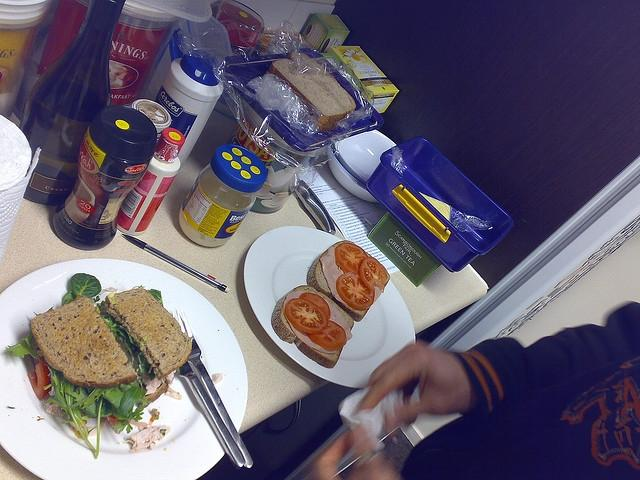tomato: (285, 298, 328, 334), (336, 272, 375, 310), (306, 319, 348, 350), (334, 243, 368, 274), (360, 256, 388, 292), (299, 292, 331, 320), (28, 361, 50, 400), (104, 414, 120, 424)
